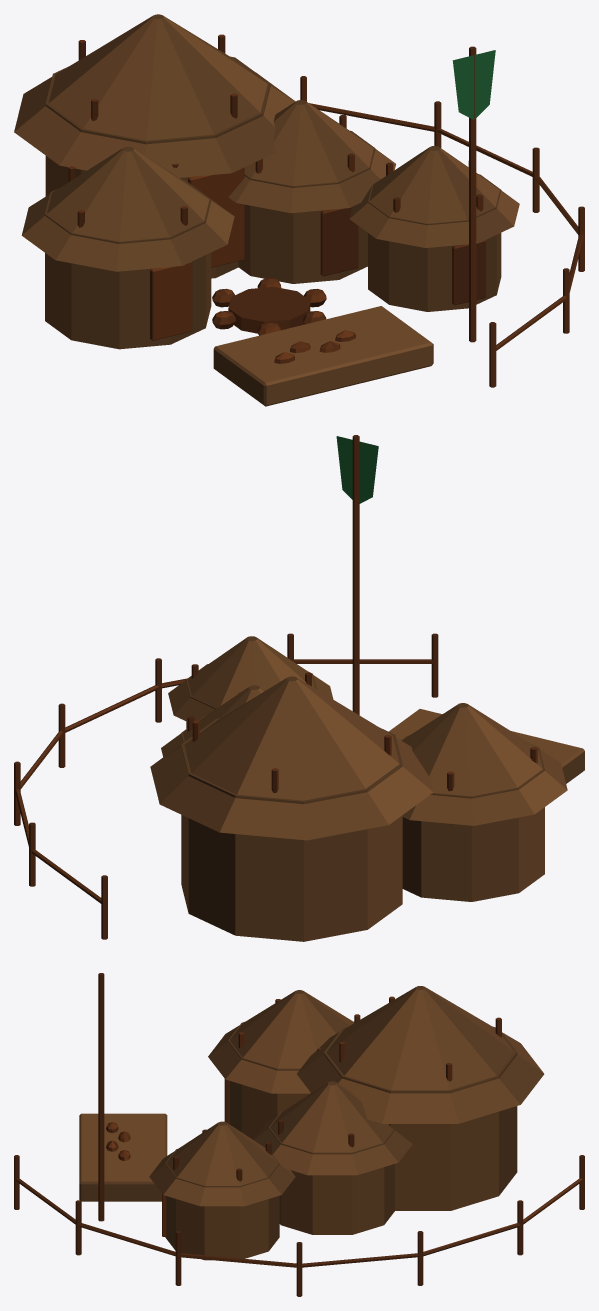
File: edificio-b_002-e0-Cd_Vjp1a.glb
The picture shows the model from 3 angles, top to bottom: view 1: azimuth 30°, elevation 25°; view 2: azimuth 150°, elevation 25°; view 3: azimuth 270°, elevation 25°; orthographic projection. The views are drawn at different scales.
Parts seen in each view (by area): view 1: edificio_b_002_e0_envolvente, edificio_b_002_e0_detalles, edificio_b_002_e0_team_color; view 2: edificio_b_002_e0_envolvente, edificio_b_002_e0_detalles, edificio_b_002_e0_team_color; view 3: edificio_b_002_e0_envolvente, edificio_b_002_e0_detalles.
Boxes of the visible parts, left/top/right/bottom form: edificio_b_002_e0_envolvente: left=14, top=14, right=519, bottom=406; edificio_b_002_e0_detalles: left=68, top=34, right=584, bottom=387; edificio_b_002_e0_team_color: left=452, top=50, right=495, bottom=119; edificio_b_002_e0_envolvente: left=150, top=636, right=584, bottom=941; edificio_b_002_e0_detalles: left=14, top=435, right=537, bottom=939; edificio_b_002_e0_team_color: left=336, top=436, right=378, bottom=503; edificio_b_002_e0_envolvente: left=79, top=986, right=544, bottom=1260; edificio_b_002_e0_detalles: left=14, top=973, right=584, bottom=1296.
Bounding box in the file's own units: 44.14 × 25 × 51.88.
3 materials, 3 textured.
